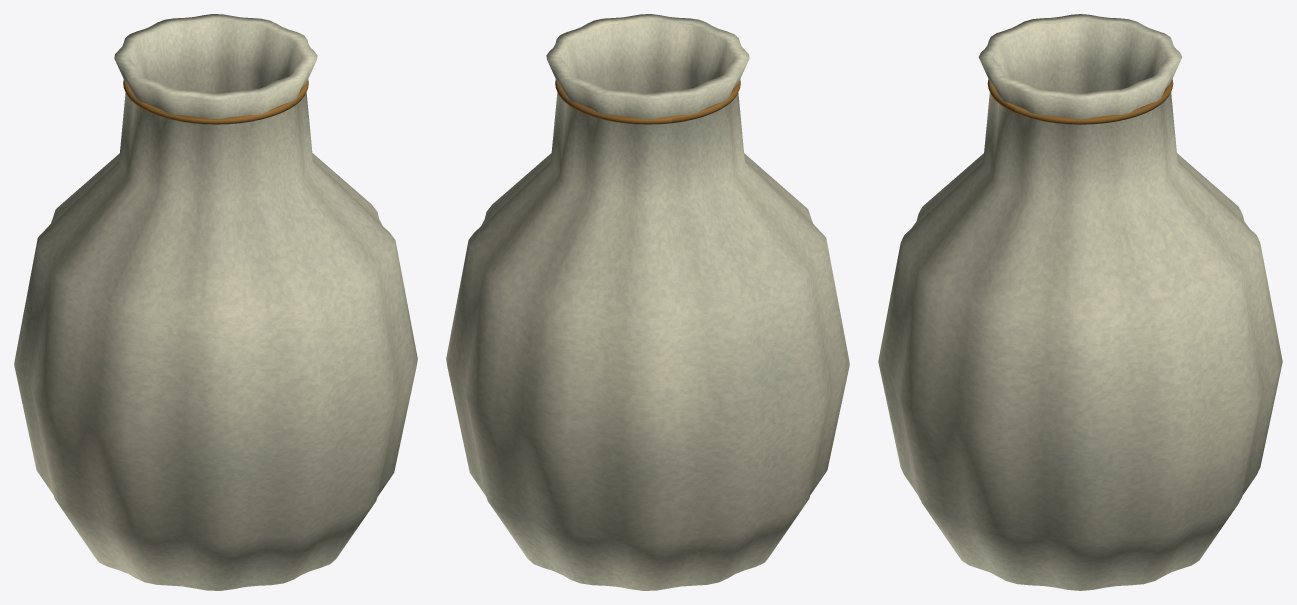
File: VasePear.fbx
3 renders of one model, left to right at view 1: azimuth 30°, elevation 25°; view 2: azimuth 150°, elevation 25°; view 3: azimuth 270°, elevation 25°, orthographic.
Parts seen in each view (by area): view 1: VasePear_Porcelain, VasePear_Brass; view 2: VasePear_Porcelain, VasePear_Brass; view 3: VasePear_Porcelain, VasePear_Brass.
Part boxes in pixels (left/top/right/bottom): VasePear_Porcelain: left=14, top=14, right=417, bottom=590; VasePear_Brass: left=123, top=79, right=308, bottom=124; VasePear_Porcelain: left=446, top=14, right=849, bottom=590; VasePear_Brass: left=555, top=79, right=740, bottom=124; VasePear_Porcelain: left=878, top=14, right=1282, bottom=590; VasePear_Brass: left=987, top=79, right=1173, bottom=124.
Size of the model in its own units: 27.67 by 36 by 27.67.
